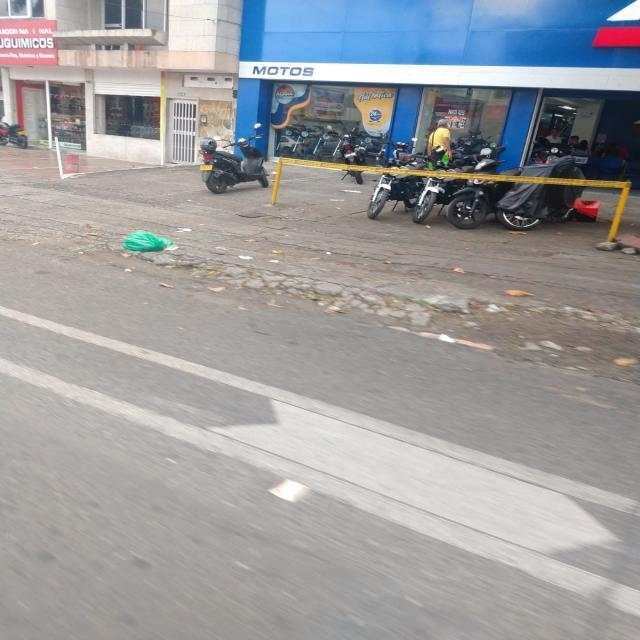Garbage_Bag: (120, 228, 177, 254)
